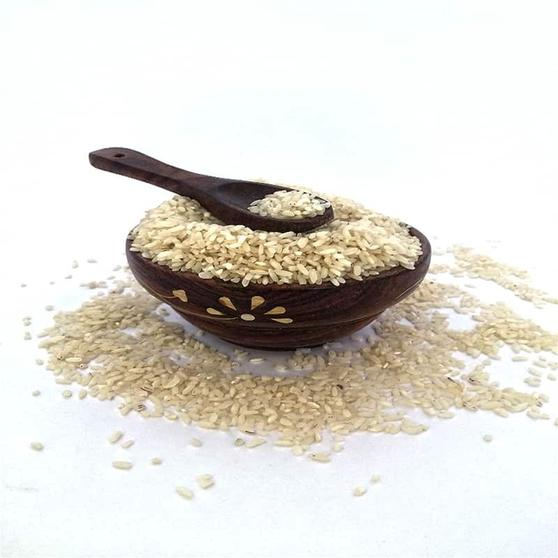rice: (138, 209, 409, 281)
